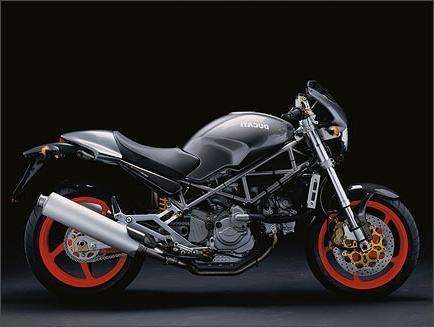motorcycle: (20, 71, 427, 305)
